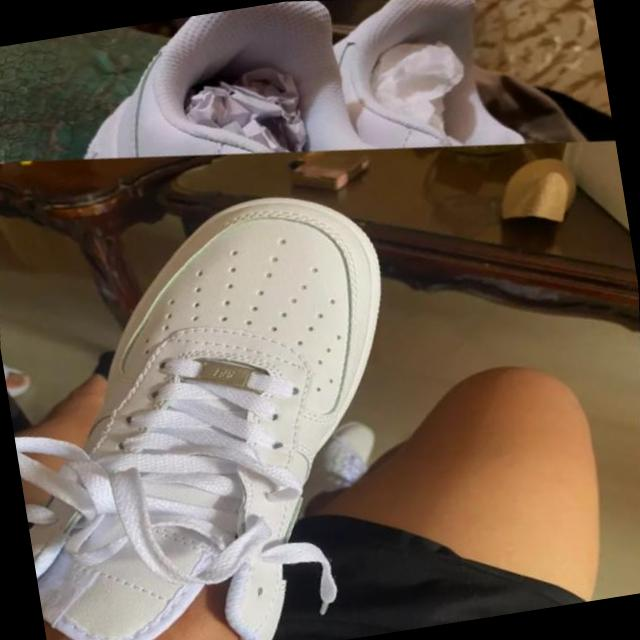nike_fake_airforce: (0, 145, 451, 640)
